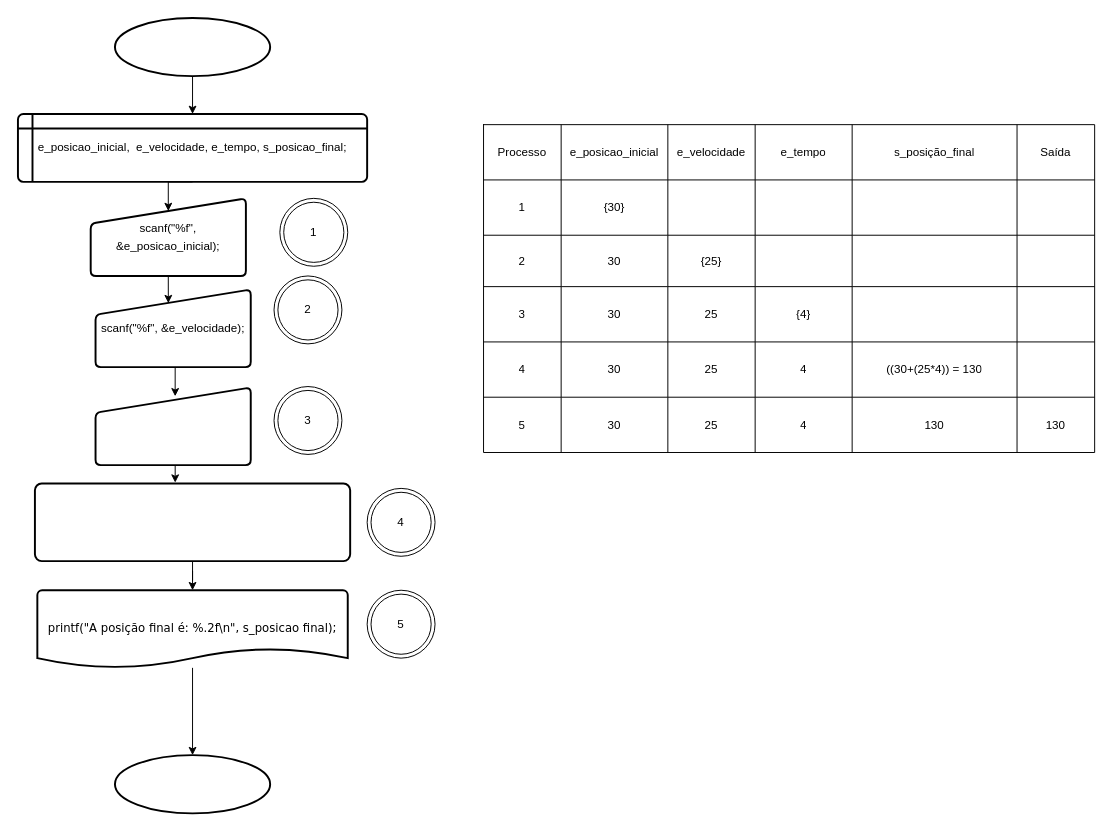
This 1112x830 diagram has some shape labels left out. Each missing label, with the centre of its shape:
End: point (192, 784)
s_posicao_final = ((e_posicao_inicial + (e_tempo * e_velocidade));: point (192, 522)
scanf("%f", &e_tempo);: point (172, 426)
Start: point (192, 46)
